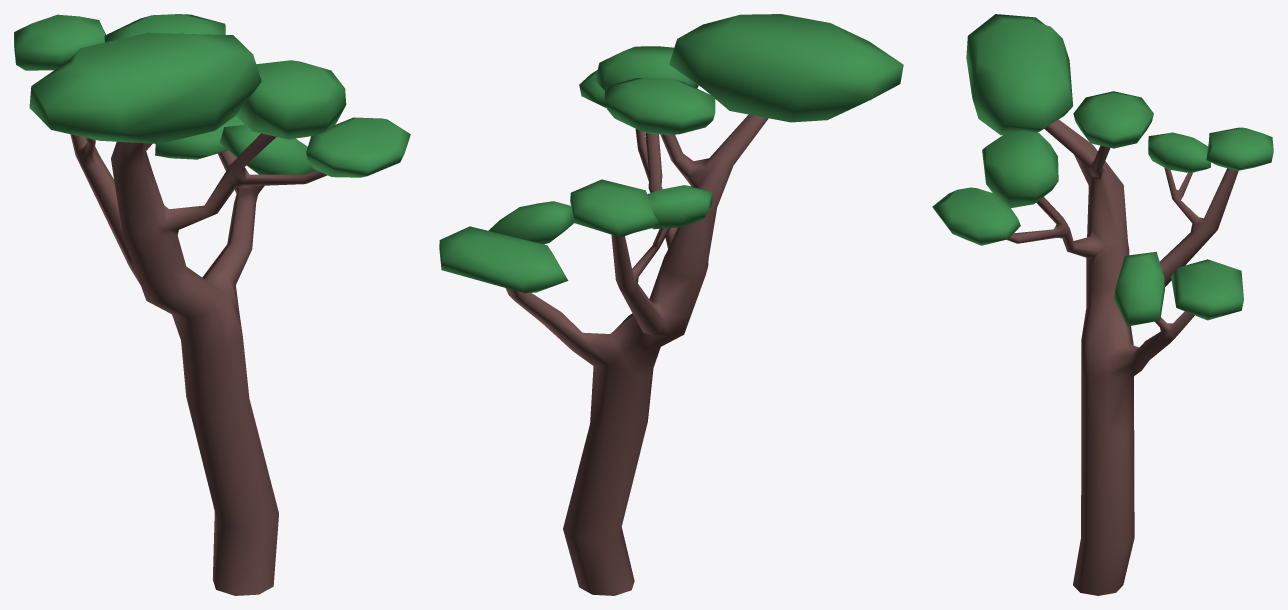
The model's file is Arvore_Japonesa_5.fbx.
The picture shows the model from 3 angles, left to right: view 1: azimuth 30°, elevation 25°; view 2: azimuth 150°, elevation 25°; view 3: azimuth 270°, elevation 25°; orthographic projection. The views are drawn at different scales.
Parts seen in each view (by area): view 1: Arvore_Japonesa_5; view 2: Arvore_Japonesa_5; view 3: Arvore_Japonesa_5.
Part boxes in pixels (bbox=[...]): Arvore_Japonesa_5: bbox=[14, 14, 410, 595]; Arvore_Japonesa_5: bbox=[439, 14, 903, 595]; Arvore_Japonesa_5: bbox=[932, 14, 1273, 595].
Size of the model in its own units: 2.51 by 2.54 by 3.92.
